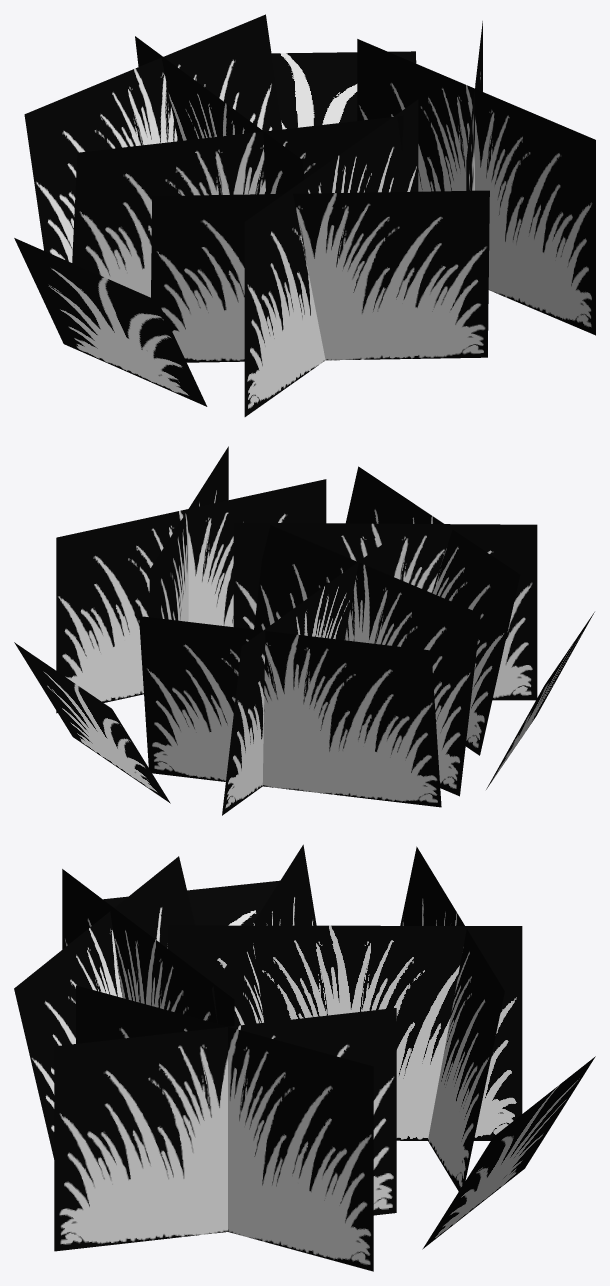
File: grassshort.fbx
3 renders of one model, top to bottom at view 1: azimuth 30°, elevation 25°; view 2: azimuth 150°, elevation 25°; view 3: azimuth 270°, elevation 25°, orthographic. The views are drawn at different scales.
Parts seen in each view (by area): view 1: grass_short; view 2: grass_short; view 3: grass_short.
Part boxes in pixels (<box>): grass_short: <box>14,14,595,416</box>; grass_short: <box>14,446,594,815</box>; grass_short: <box>14,844,595,1271</box>.
Bounding box in the file's own units: 151 × 55.64 × 143.
